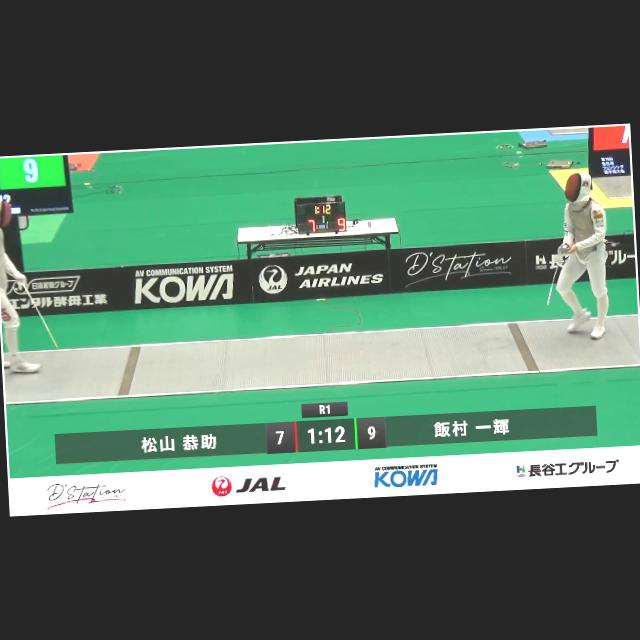blade: (17, 274, 62, 356), (542, 244, 572, 308)
